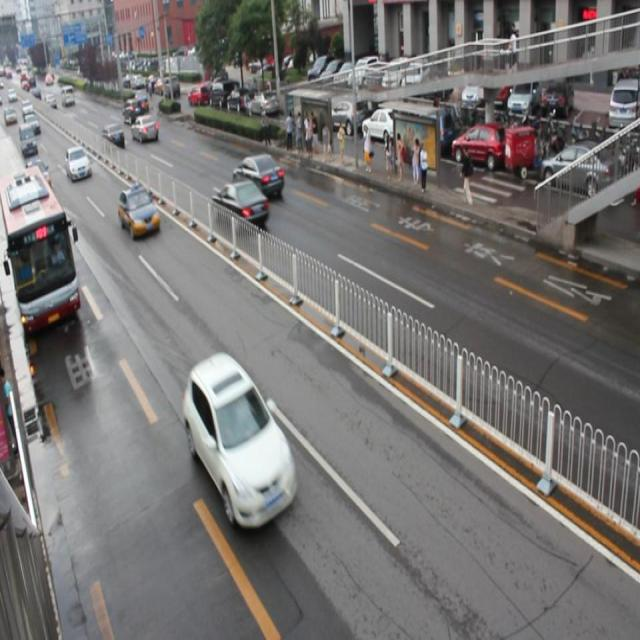car: (183, 351, 297, 528), (212, 180, 270, 230), (118, 182, 162, 236), (232, 154, 285, 198), (66, 145, 91, 182), (131, 114, 159, 143), (102, 124, 125, 150)
van: (0, 168, 80, 332)
